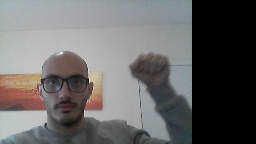Pugno: (126, 48, 171, 85)
